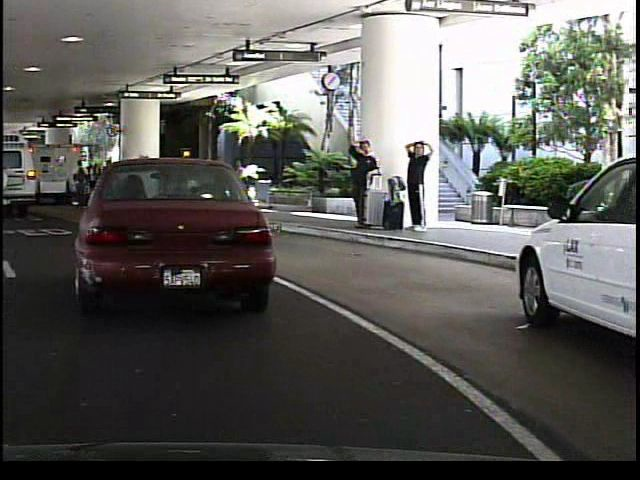person: (345, 134, 377, 230), (400, 135, 431, 234), (224, 152, 252, 220), (361, 152, 381, 223)
